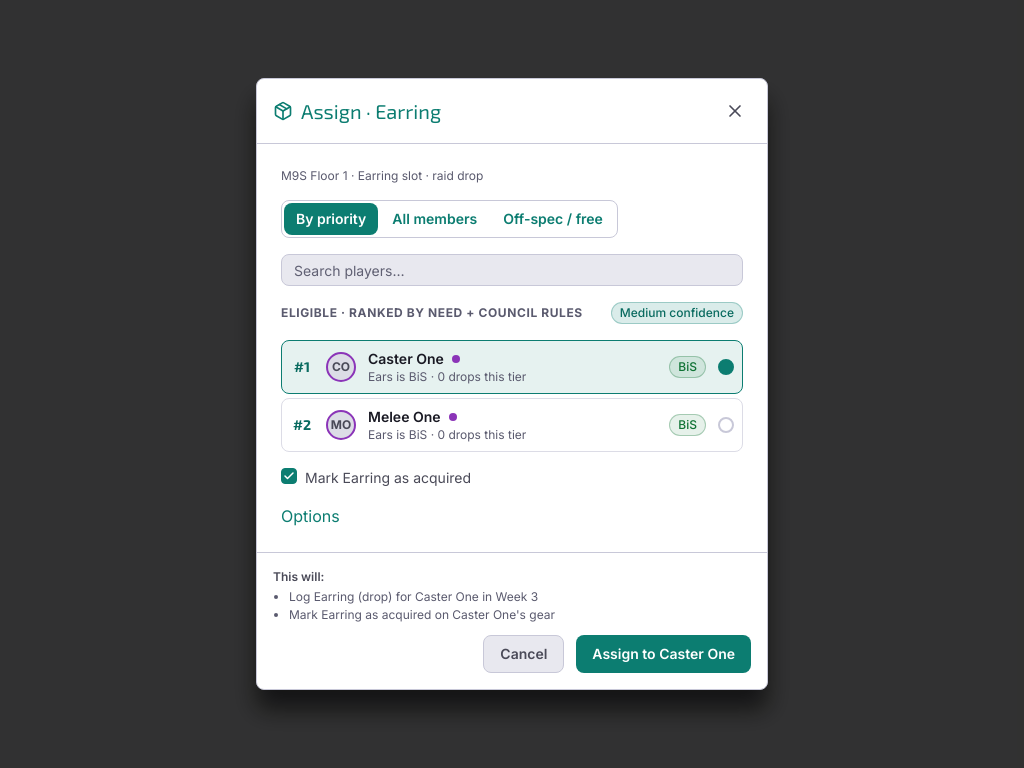
Scenario: RecipientPicker — R-12 "This will:" live preview › off-spec scope disables the acquired checkbox for any slot, with the extra-loot caption
Step 1. Click the button "Off-spec / free" → (553, 219), box [491, 203, 615, 235]
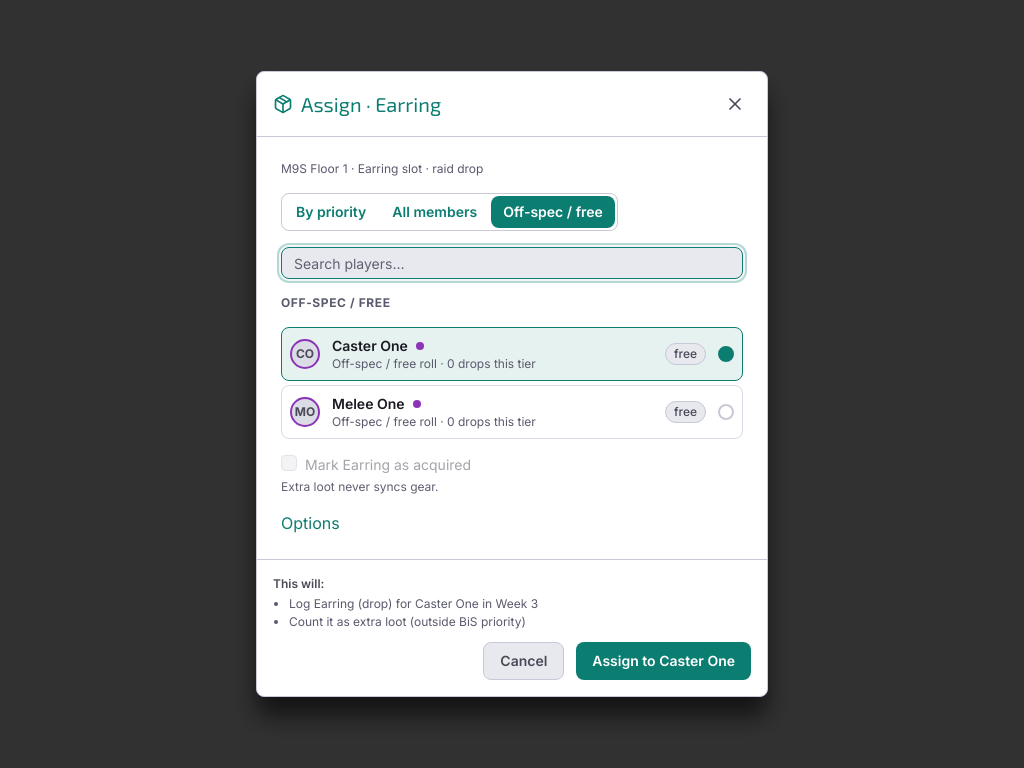
Result: the text "Extra loot never syncs gear." is shown at [281, 479, 439, 494]
